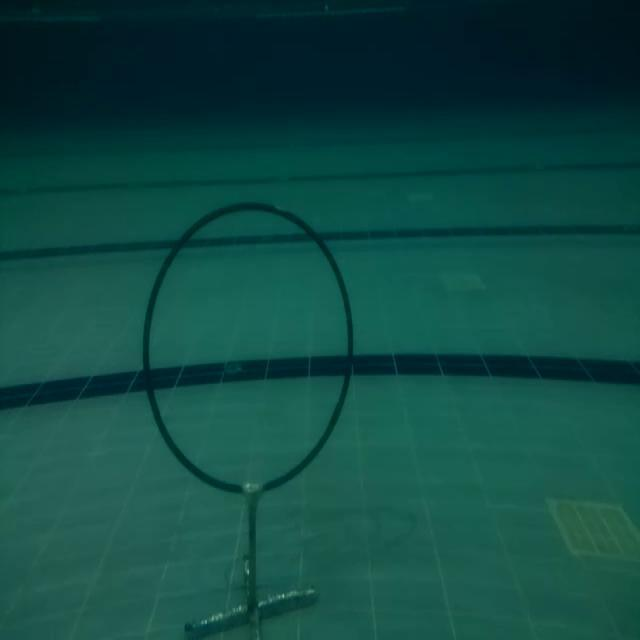Circle: (133, 193, 365, 509)
